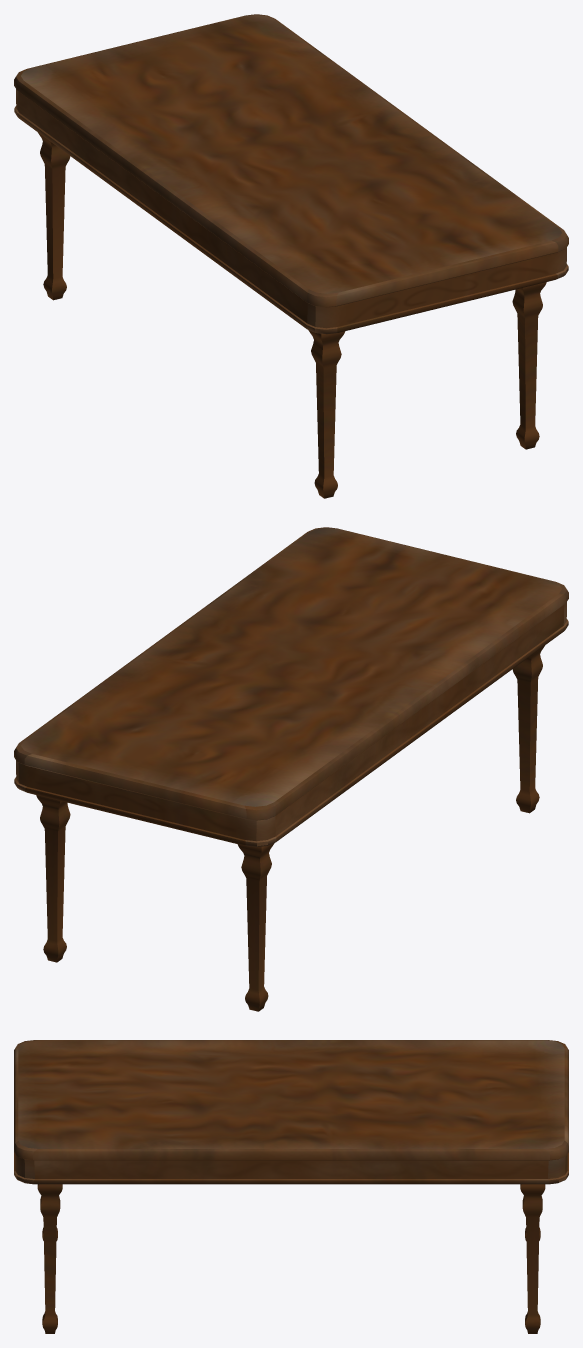
The model's file is Table 1.fbx.
3 renders of one model, top to bottom at view 1: azimuth 30°, elevation 25°; view 2: azimuth 150°, elevation 25°; view 3: azimuth 270°, elevation 25°, orthographic. The views are drawn at different scales.
Parts seen in each view (by area): view 1: Cube.007; view 2: Cube.007; view 3: Cube.007.
Part boxes in pixels (left/top/right/bottom): Cube.007: left=14, top=14, right=568, bottom=498; Cube.007: left=14, top=527, right=568, bottom=1011; Cube.007: left=14, top=1040, right=568, bottom=1333.
Size of the model in its own units: 175 by 140 by 364.
Materials: 1 (1 with a texture image).
